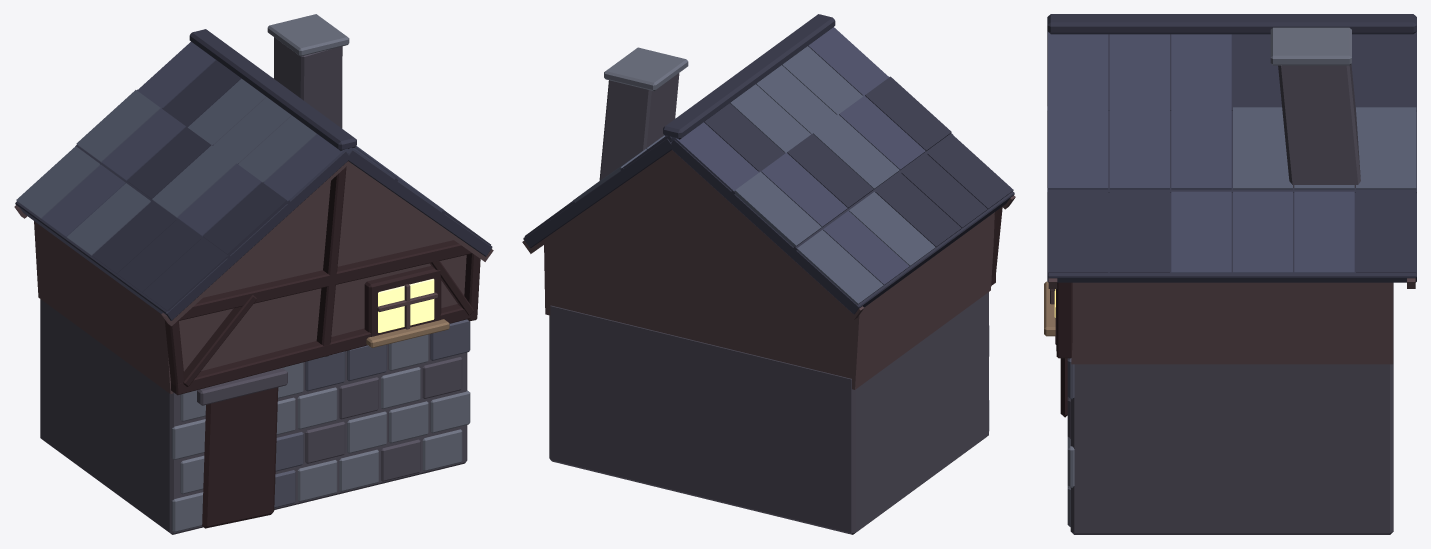
File: village_house.glb
3 renders of one model, left to right at view 1: azimuth 30°, elevation 25°; view 2: azimuth 150°, elevation 25°; view 3: azimuth 270°, elevation 25°, orthographic. The views are drawn at different scales.
Parts seen in each view (by area): view 1: village_house; view 2: village_house; view 3: village_house.
Part boxes in pixels (x1,y1,x2,y2): village_house: [14, 14, 493, 534]; village_house: [522, 14, 1015, 534]; village_house: [1044, 14, 1416, 534].
Size of the model in its own units: 2.19 by 2.4 by 1.77.
